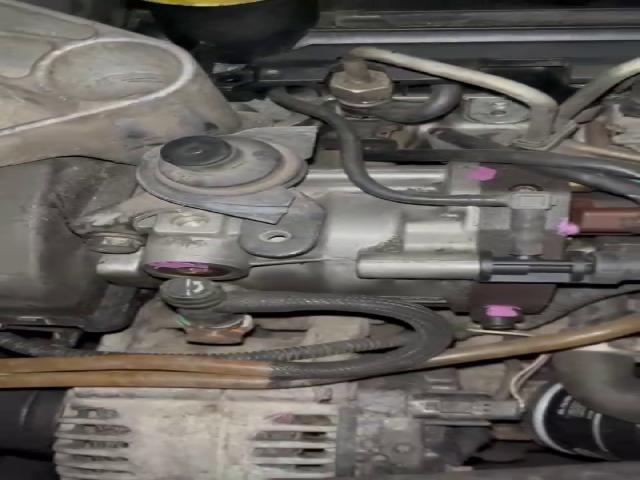alternator: (48, 366, 527, 480)
high_pressure_pump: (133, 157, 595, 331)
